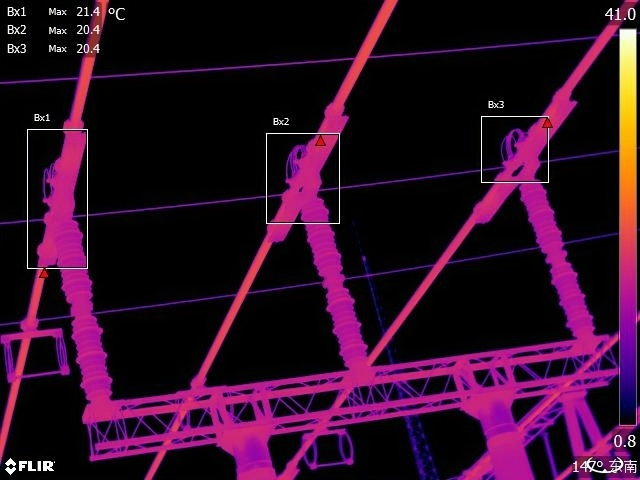post insulator: (303, 185, 377, 357), (54, 212, 119, 394), (527, 175, 598, 339)
